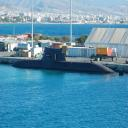submarine: (12, 49, 118, 75)
